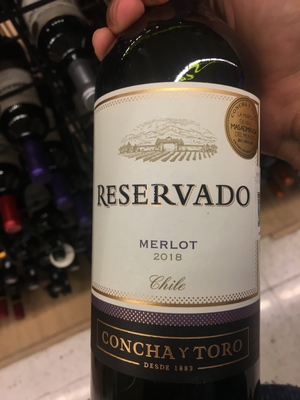reservado merlot: (83, 17, 300, 388)
